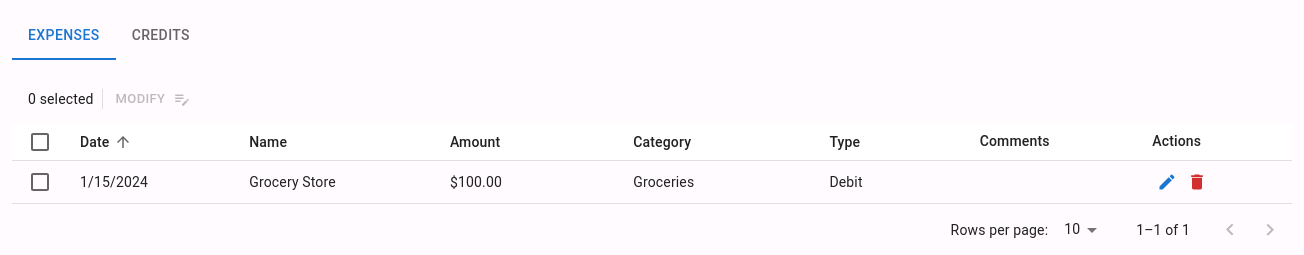
Test: FileImportReview › tabs rendering › should show "No credits to display" when there are no credits
Click the tab "Credits" at (161, 36), box [116,12,206,60]
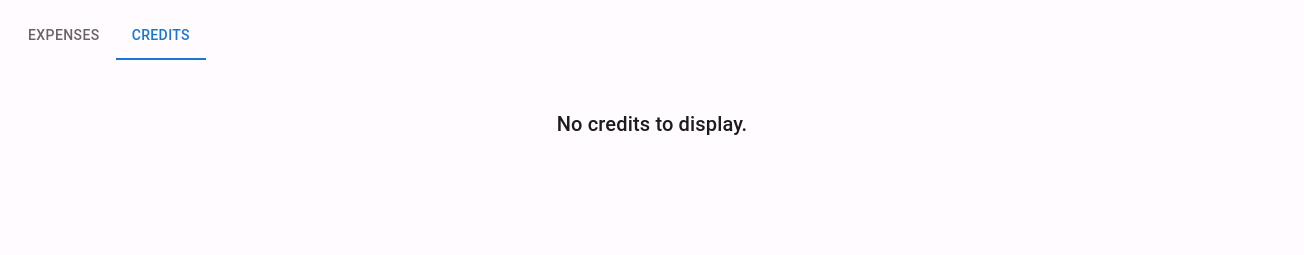
Expected: the heading "No credits to display." is shown, [557,112,747,136]
